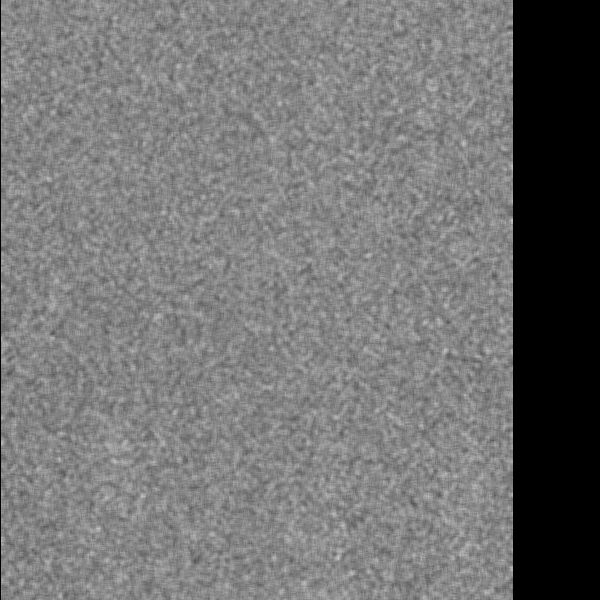spark: (98, 452, 144, 472)
